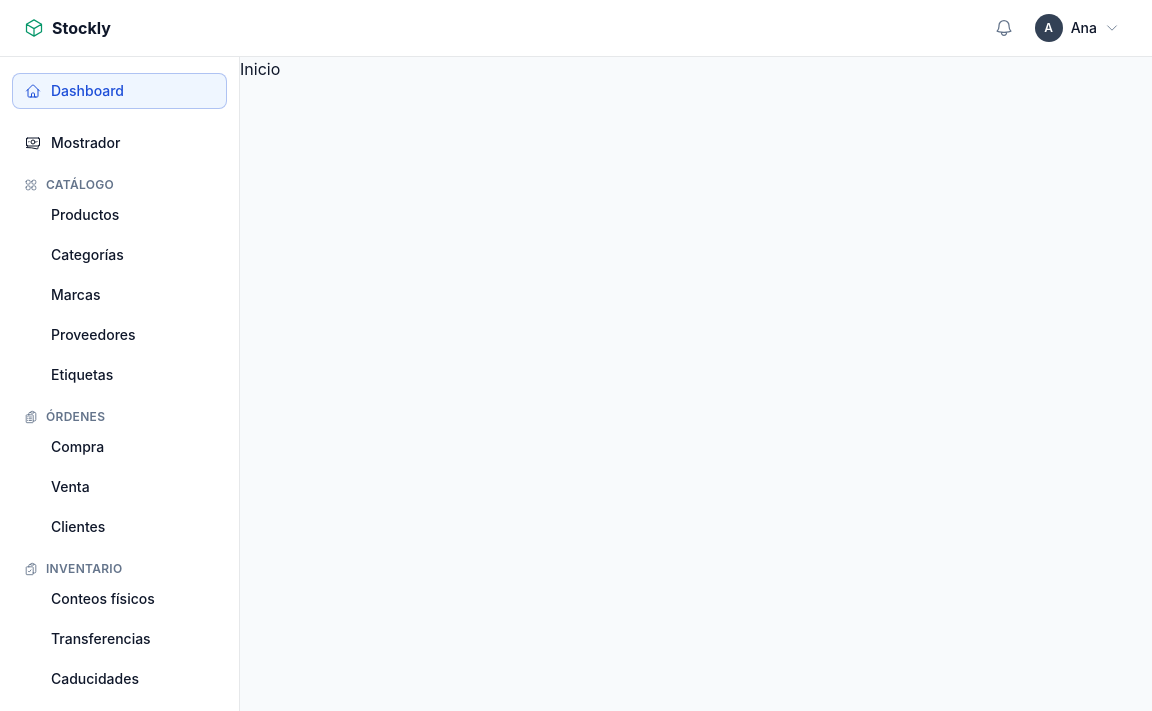
Barra lateral (T4-10) › la sección actual queda destacada, y no solo por el color
Click the link "Productos".
click(85, 214)  # box [51,206,119,223]
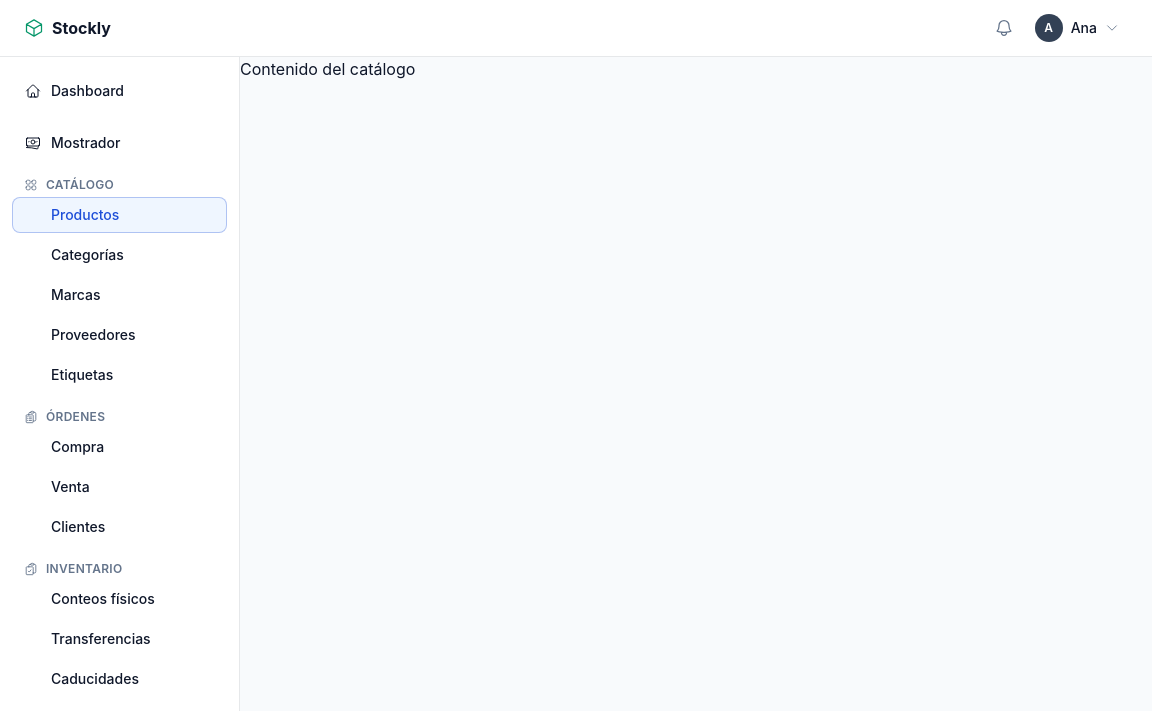
Expected: the text "Contenido del catálogo" is shown, [240,59,415,79]
